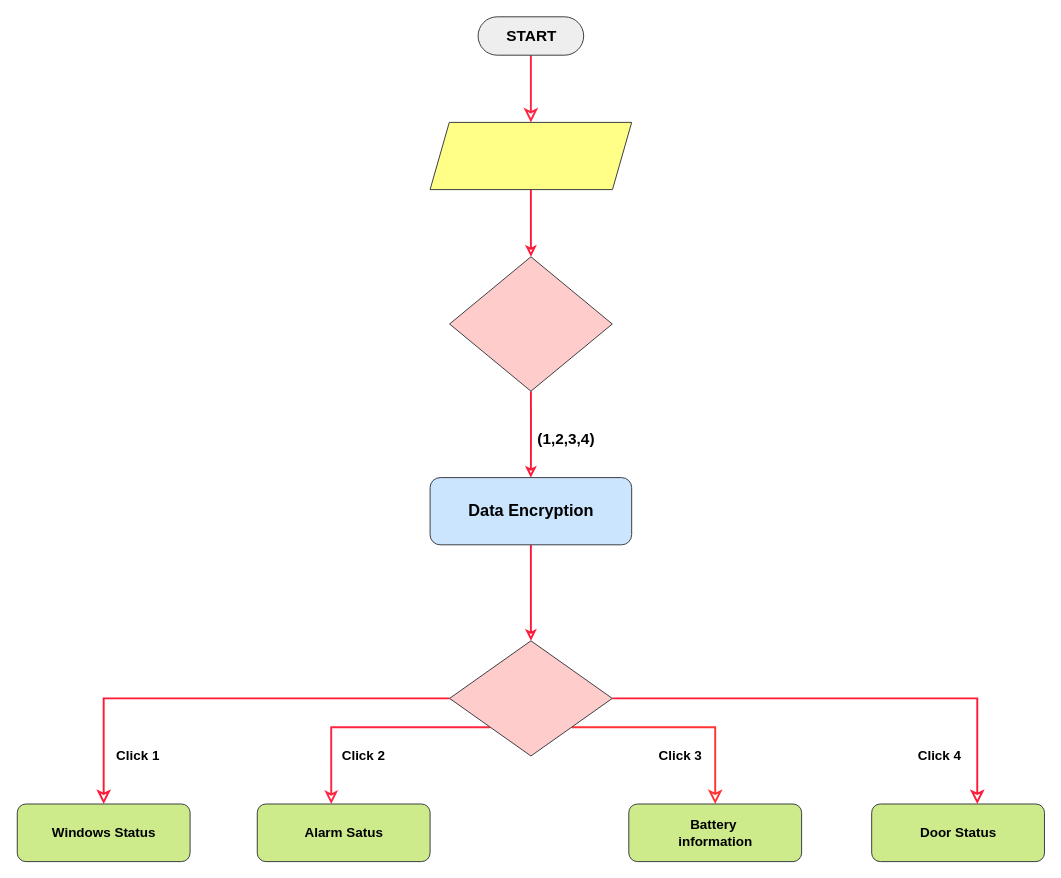
The diagram is 1061 pixels wide and 878 high, and some of its shapes have lost their labels. The shapes that lost their labels are listed below. From the top down, each one's centre as x and y in pixels, then its label:
At [530,155]: "USER KEYS".
At [530,323]: "No of times key Pressed".
At [530,698]: "Encrypted States".
